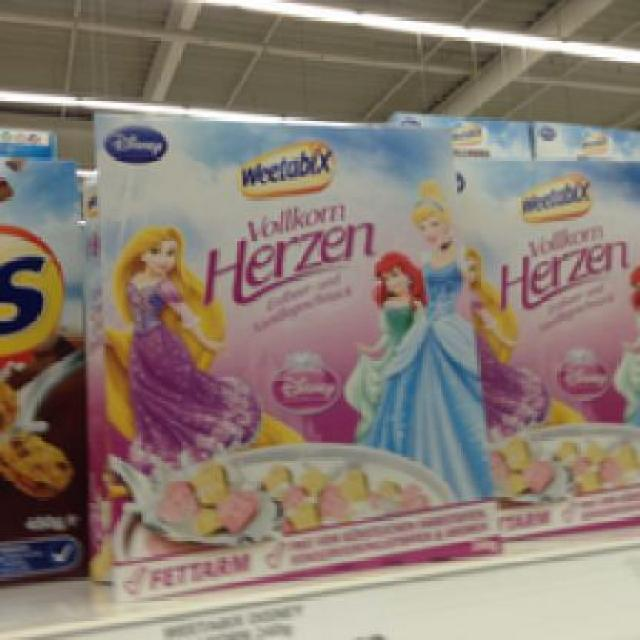Cereal: (88, 108, 494, 594), (440, 154, 637, 537)
